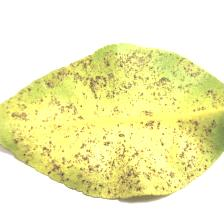canker: (36, 74, 198, 172)
